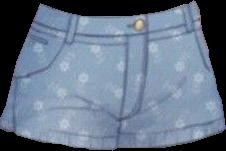Hemline: (0, 127, 117, 149), (117, 126, 225, 148)
Pantleg: (0, 3, 127, 149), (118, 0, 225, 147)
Waistline: (34, 17, 200, 36), (40, 0, 195, 17)
